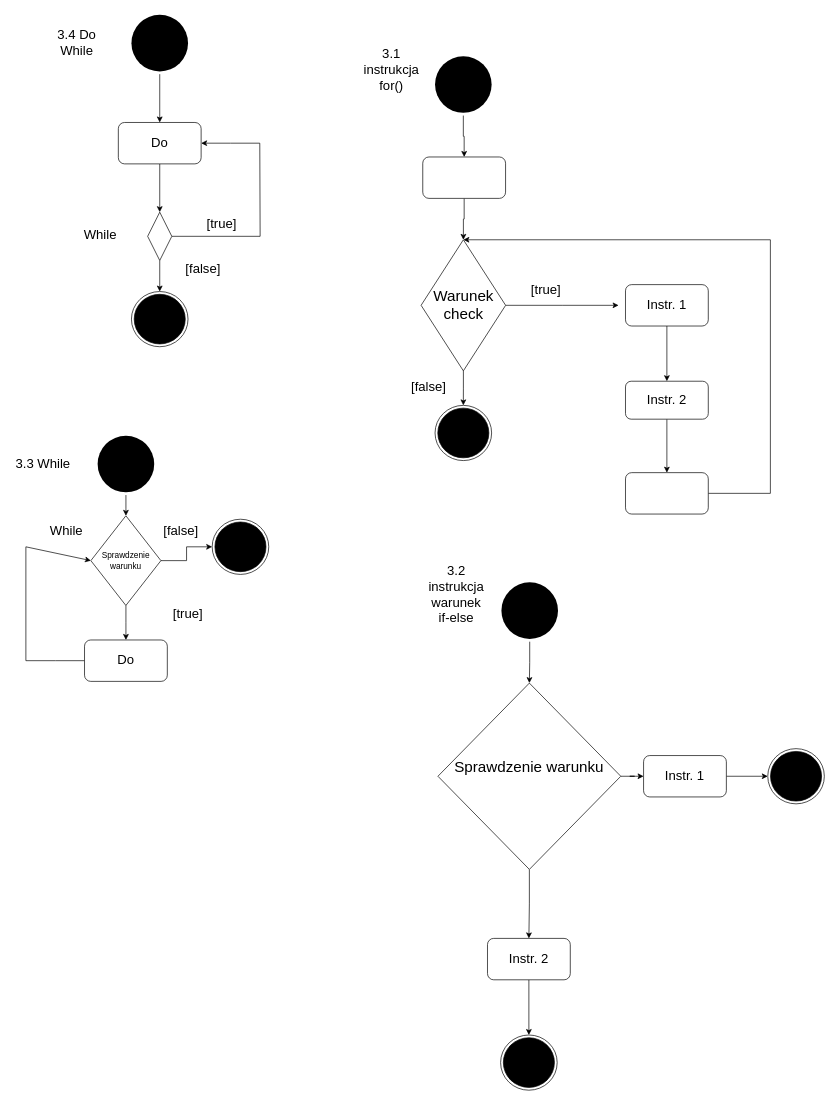
The diagram is 836 pixels wide and 1102 high, and some of its shapes have lost their labels. The shapes that lost their labels are listed below. From the top down, each one's centre as x and y in pixels, then its label:
At (464,177): "Iterator initialization".
At (666,493): "Operacja na iteratorze".
